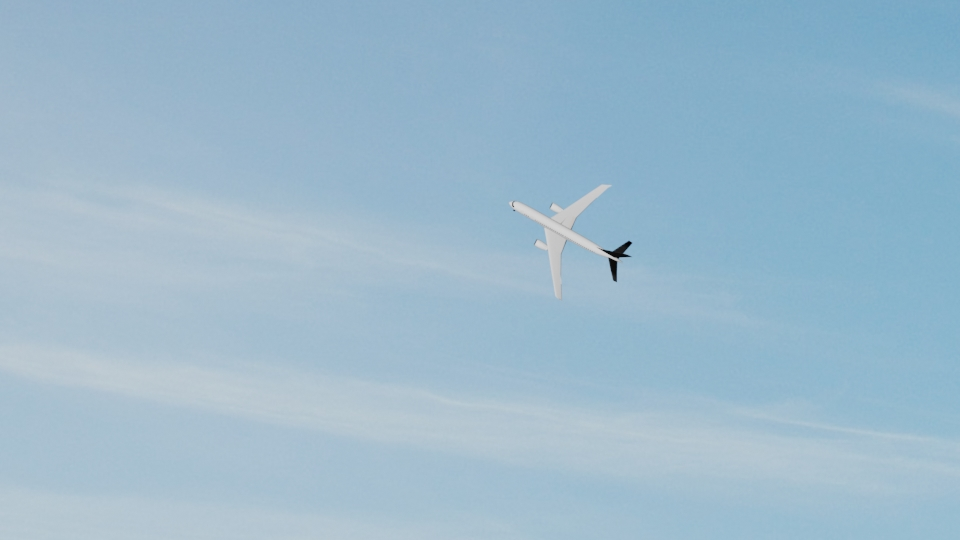plane: (508, 187, 634, 301)
